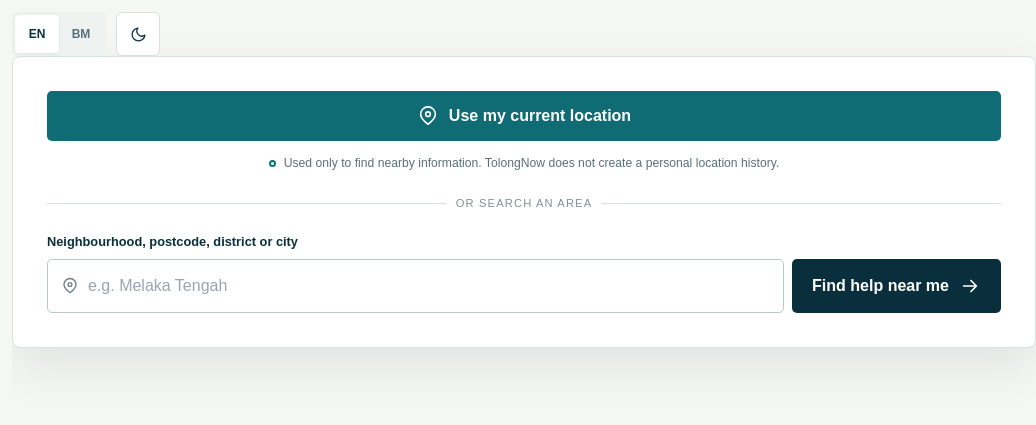
Scenario: location-search pilot guidance › shows Melaka pilot guidance in Bahasa Melayu
Click the button with aria-label "Bahasa Melayu": click(81, 34) [59,15,103,53]
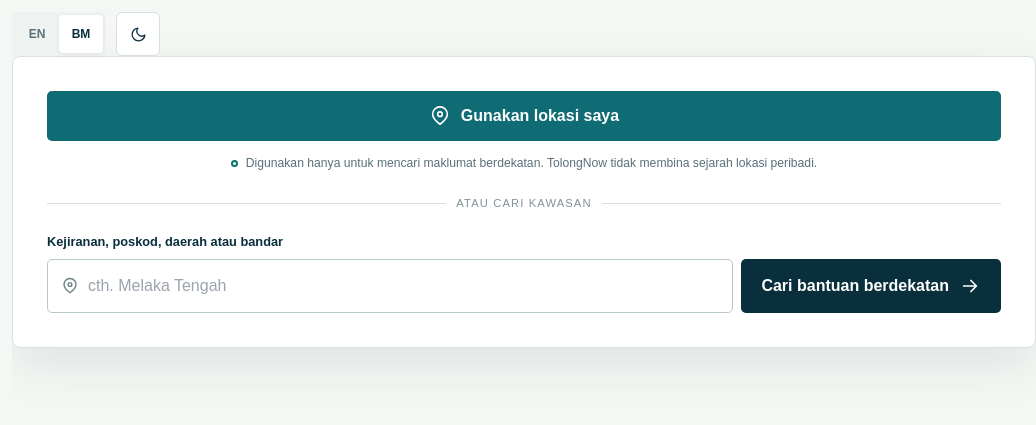
Result: the text "Digunakan hanya untuk mencari maklumat berdekatan. TolongNow tidak membina sejarah lokasi peribadi." is shown at [246,156,817,170]
Click the button "Gunakan lokasi saya": click(524, 116) [47,91,1001,141]
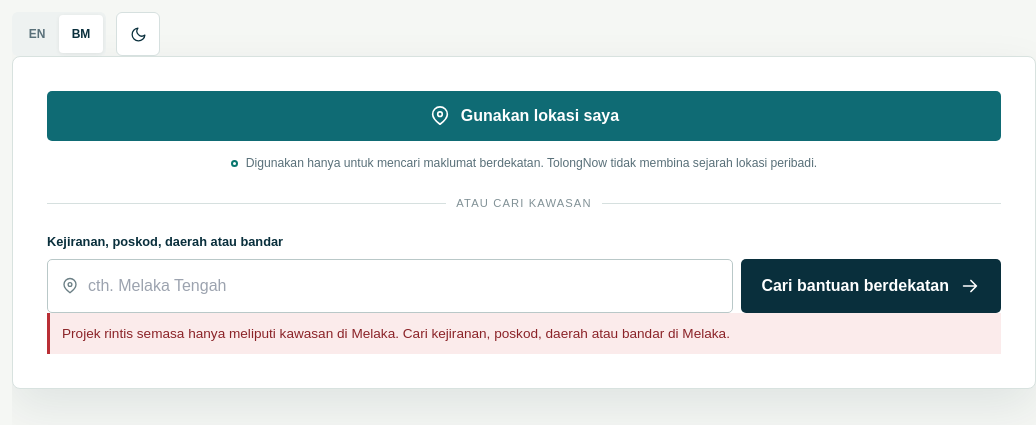
Result: the message shows "Projek rintis semasa hanya meliputi kawasan di Melaka" at [62,326,730,341]
